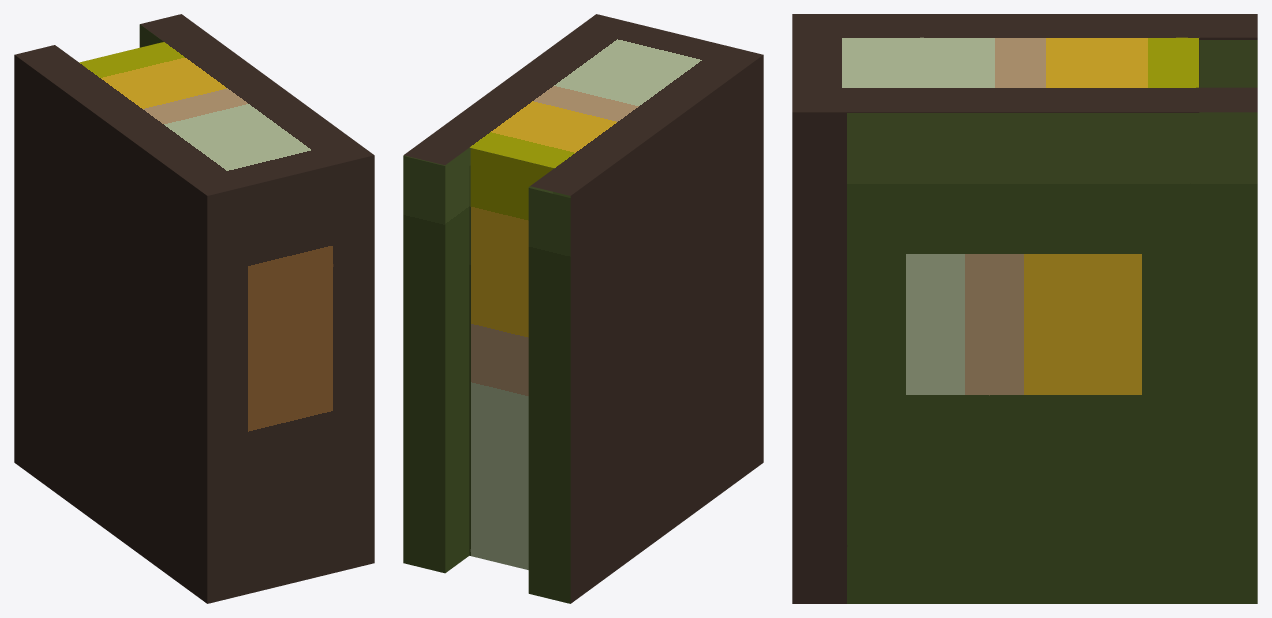
The model's file is book_642x11.obj.
3 renders of one model, left to right at view 1: azimuth 30°, elevation 25°; view 2: azimuth 150°, elevation 25°; view 3: azimuth 270°, elevation 25°, orthographic. The views are drawn at different scales.
Parts seen in each view (by area): view 1: Cube; view 2: Cube; view 3: Cube.
Boxes of the visible parts, <box> form: Cube: <box>14,14,374,603</box>; Cube: <box>403,14,763,603</box>; Cube: <box>792,14,1257,603</box>.
Bounding box in the file's own units: 0.5 × 1.17 × 1.
